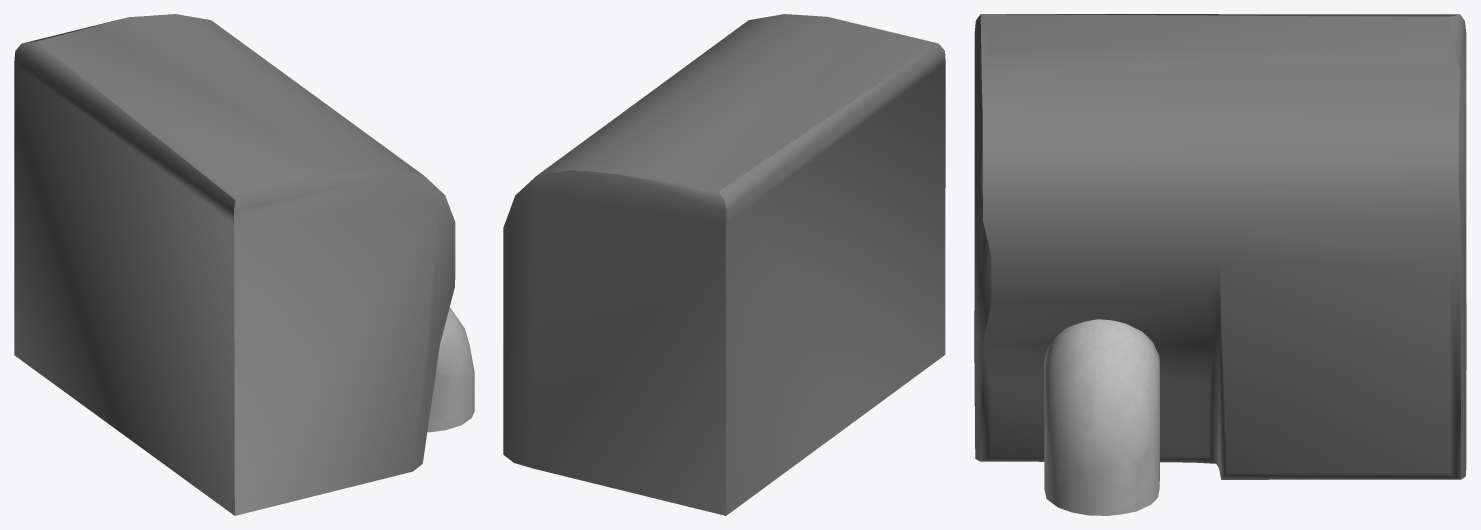
The model's file is HandDryer.fbx.
3 views of the same model, side by side, from view 1: azimuth 30°, elevation 25°; view 2: azimuth 150°, elevation 25°; view 3: azimuth 270°, elevation 25° (orthographic). The views are drawn at different scales.
Visible parts, largest first — view 1: propHandDryer; view 2: propHandDryer; view 3: propHandDryer.
Part boxes in pixels (<box>): propHandDryer: <box>14,14,474,515</box>; propHandDryer: <box>503,14,945,515</box>; propHandDryer: <box>974,14,1466,515</box>.
Size of the model in its own units: 41.27 by 42.81 by 54.11.
2 materials, 1 textured.
